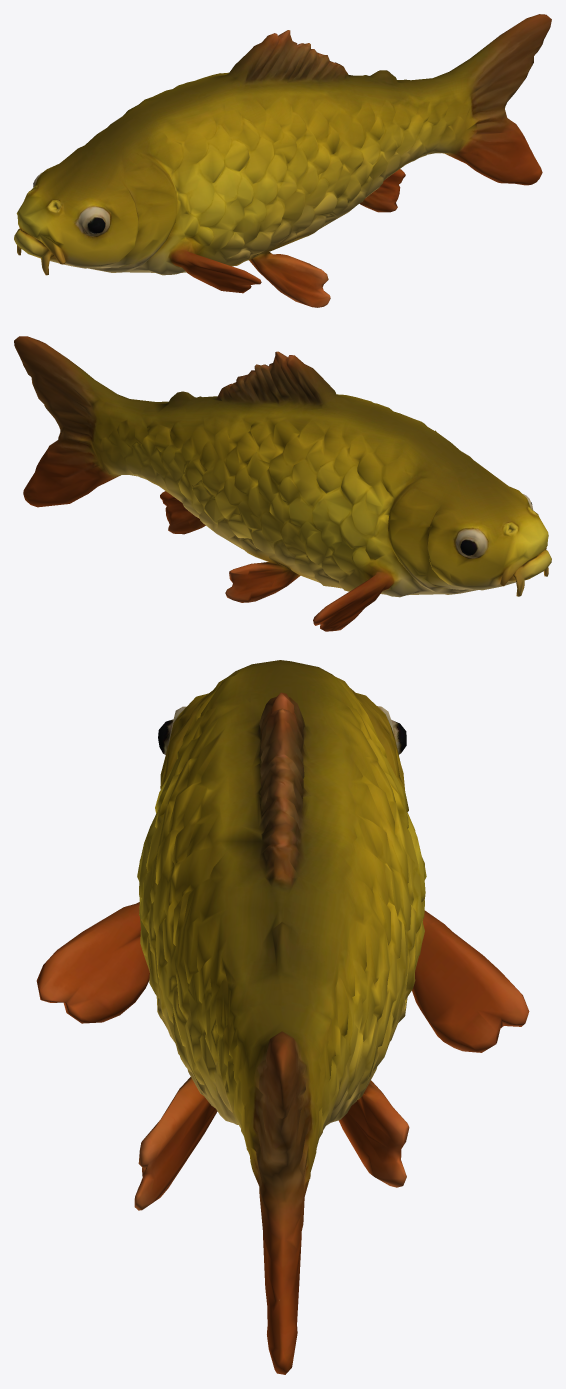
Rendered from fish-karp.glb.
The picture shows the model from 3 angles, top to bottom: view 1: azimuth 30°, elevation 25°; view 2: azimuth 150°, elevation 25°; view 3: azimuth 270°, elevation 25°; orthographic projection. The views are drawn at different scales.
Parts seen in each view (by area): view 1: tripo_node_b622c3e6-655e-4417-8615-a5b77a696cfc; view 2: tripo_node_b622c3e6-655e-4417-8615-a5b77a696cfc; view 3: tripo_node_b622c3e6-655e-4417-8615-a5b77a696cfc.
Boxes of the visible parts, x1,y1,x2,y2 form: tripo_node_b622c3e6-655e-4417-8615-a5b77a696cfc: (14,14,551,307); tripo_node_b622c3e6-655e-4417-8615-a5b77a696cfc: (14,336,551,631); tripo_node_b622c3e6-655e-4417-8615-a5b77a696cfc: (36,660,529,1374).
Bounding box in the file's own units: 0.9993 × 0.4503 × 0.4009.
Materials: 1 (1 with a texture image).
